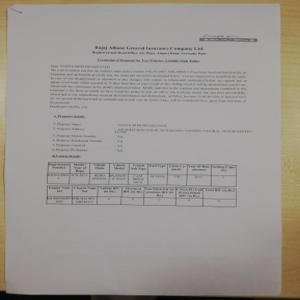table: (46, 161, 238, 207)
text: (50, 112, 254, 158), (49, 63, 250, 108), (92, 43, 212, 63)
